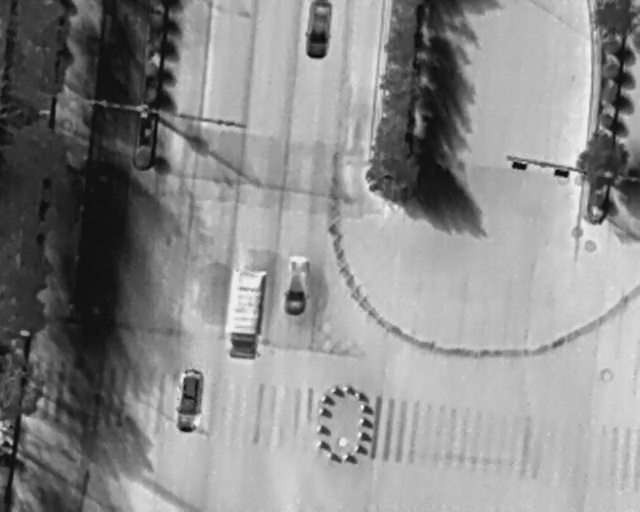Car: (173, 368, 207, 433), (284, 253, 312, 316), (305, 0, 332, 59)
OtherVehicle: (221, 266, 267, 360)
